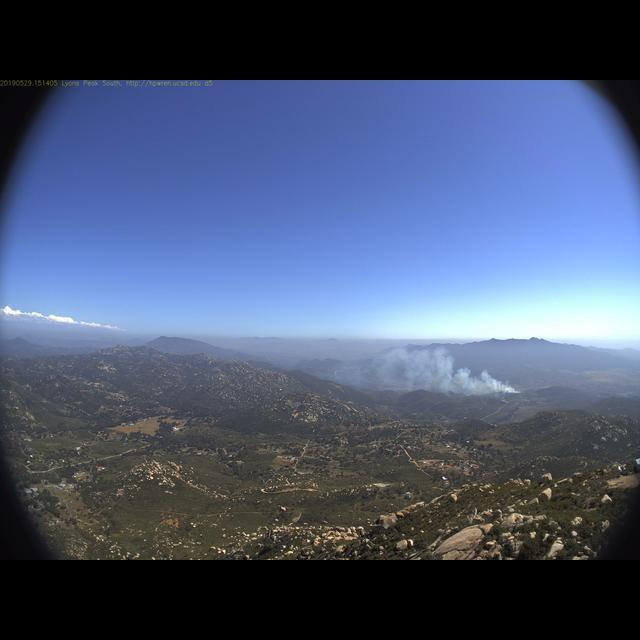Smoke: (298, 327, 518, 399)
